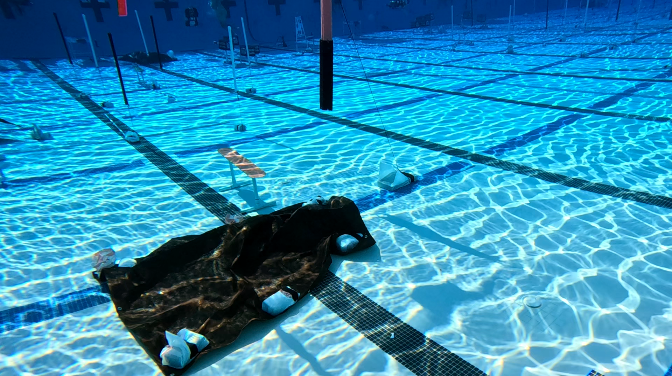pathmarker: (217, 147, 265, 178)
sandbag: (92, 195, 376, 374)
